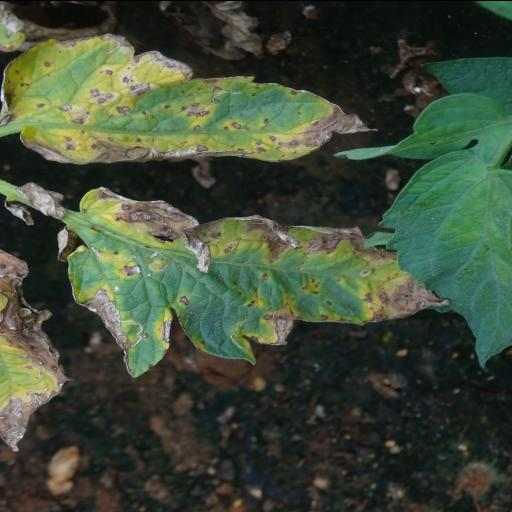disease_tomato: (66, 185, 452, 377), (2, 33, 378, 165)
